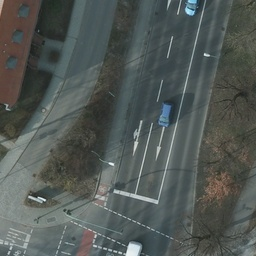car: (158, 101, 174, 125), (183, 1, 198, 16)
